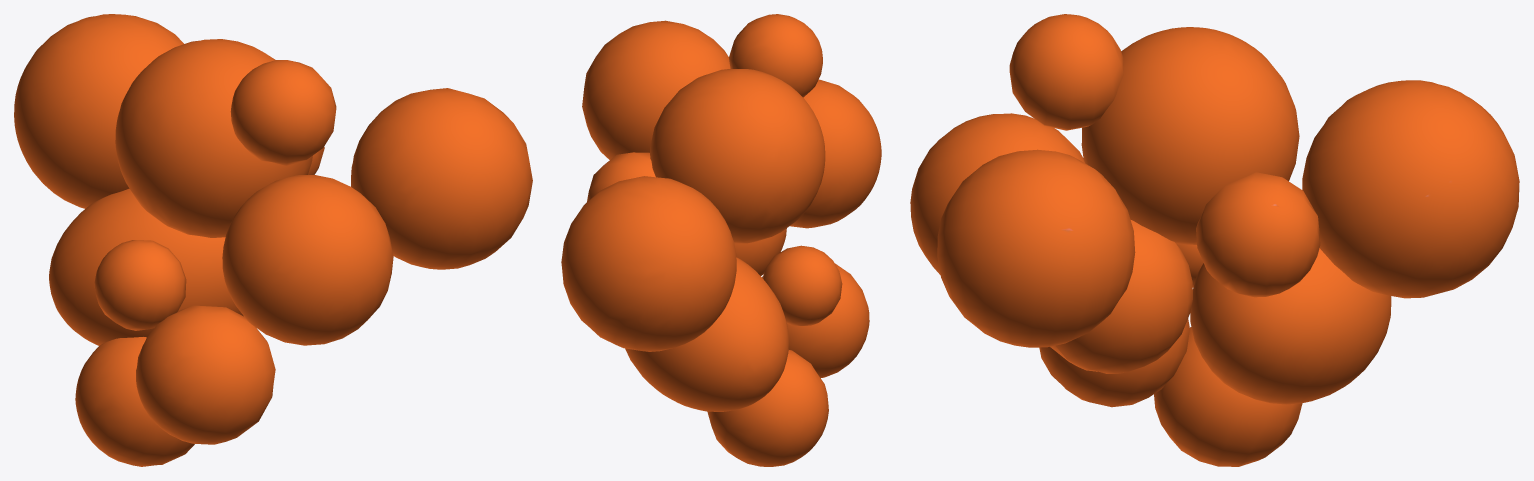
File: Ovaria.fbx
3 renders of one model, left to right at view 1: azimuth 30°, elevation 25°; view 2: azimuth 150°, elevation 25°; view 3: azimuth 270°, elevation 25°, orthographic. The views are drawn at different scales.
Parts seen in each view (by area): view 1: Ovaria__LOD0; view 2: Ovaria__LOD0; view 3: Ovaria__LOD0.
Part boxes in pixels (x1,y1,x2,y2): Ovaria__LOD0: (14, 14, 532, 466); Ovaria__LOD0: (561, 14, 881, 466); Ovaria__LOD0: (910, 14, 1519, 466).
Size of what is drawn, in the model's own units: 0.1286 by 0.1528 by 0.1779.
1 material, 1 textured.
